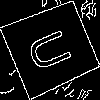U: (25, 23, 81, 74)
